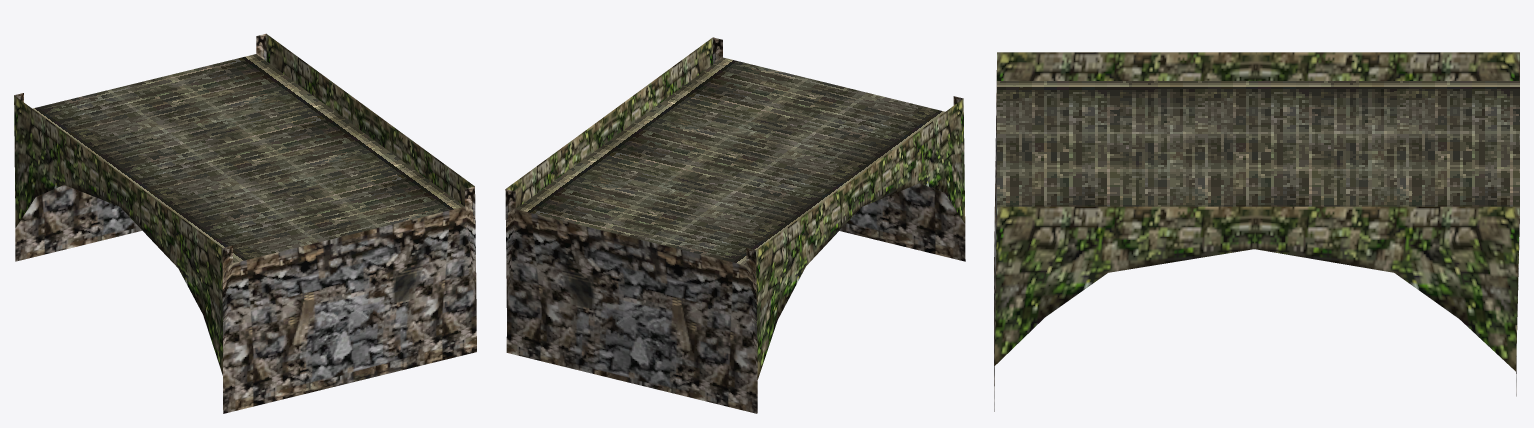
File: Civilian - Civilian Building - Fortress Wall Large Arch - CMWalAkml3.glb
The picture shows the model from 3 angles, left to right: view 1: azimuth 30°, elevation 25°; view 2: azimuth 150°, elevation 25°; view 3: azimuth 270°, elevation 25°; orthographic projection. The views are drawn at different scales.
Parts seen in each view (by area): view 1: CMWALAKML3; view 2: CMWALAKML3; view 3: CMWALAKML3.
Part boxes in pixels (box(x1,y1,x2,y2)): CMWALAKML3: box(14, 33, 476, 413); CMWALAKML3: box(505, 37, 965, 413); CMWALAKML3: box(994, 52, 1519, 411).
Bounding box in the file's own units: 59.02 × 43.64 × 84.55.
5 materials, 5 textured.
